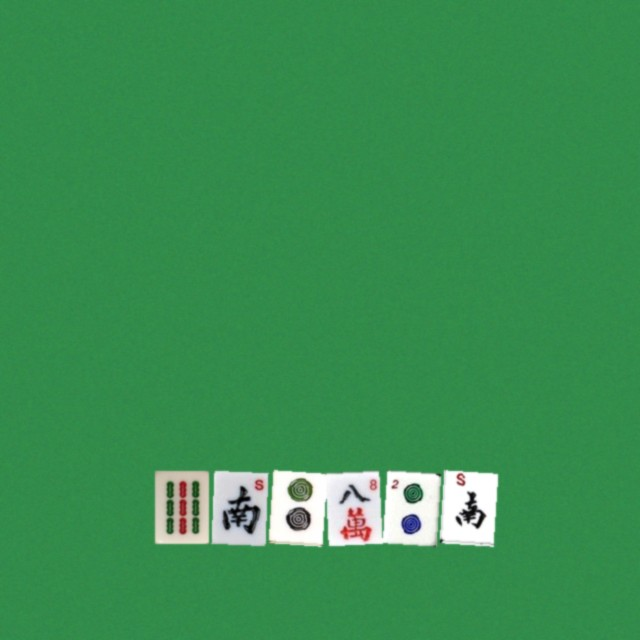tile: (154, 470, 208, 543), (211, 470, 265, 543), (268, 470, 322, 543), (325, 470, 379, 543), (382, 470, 436, 543), (439, 470, 493, 543)
